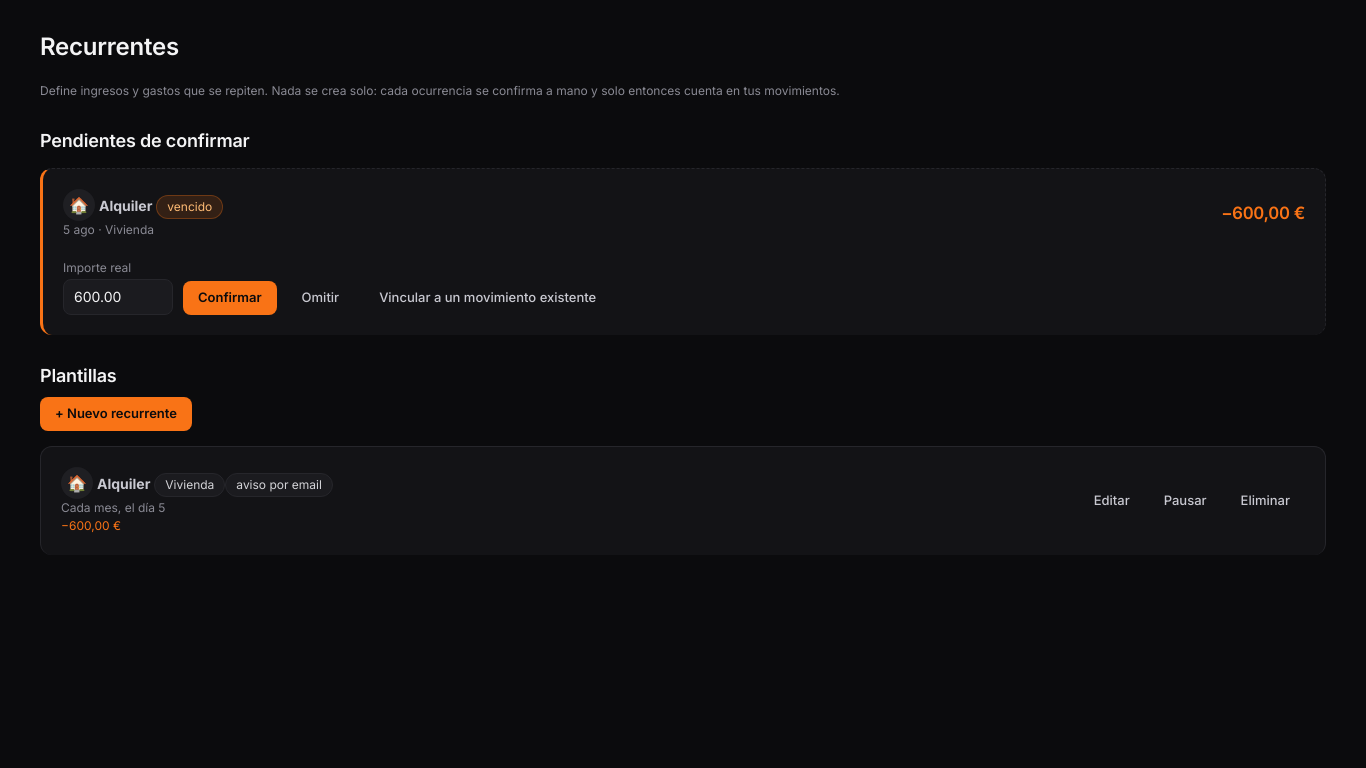
Scenario: RecurringPage › al editar, carga la configuración del aviso y el listado la etiqueta
Expected: the text "aviso por email" is shown, top-left (225, 473), bottom-right (333, 497)
Click the button "Editar" at {"x": 1112, "y": 501}, box top-left (1079, 484), bottom-right (1145, 517)
(page scrolled)
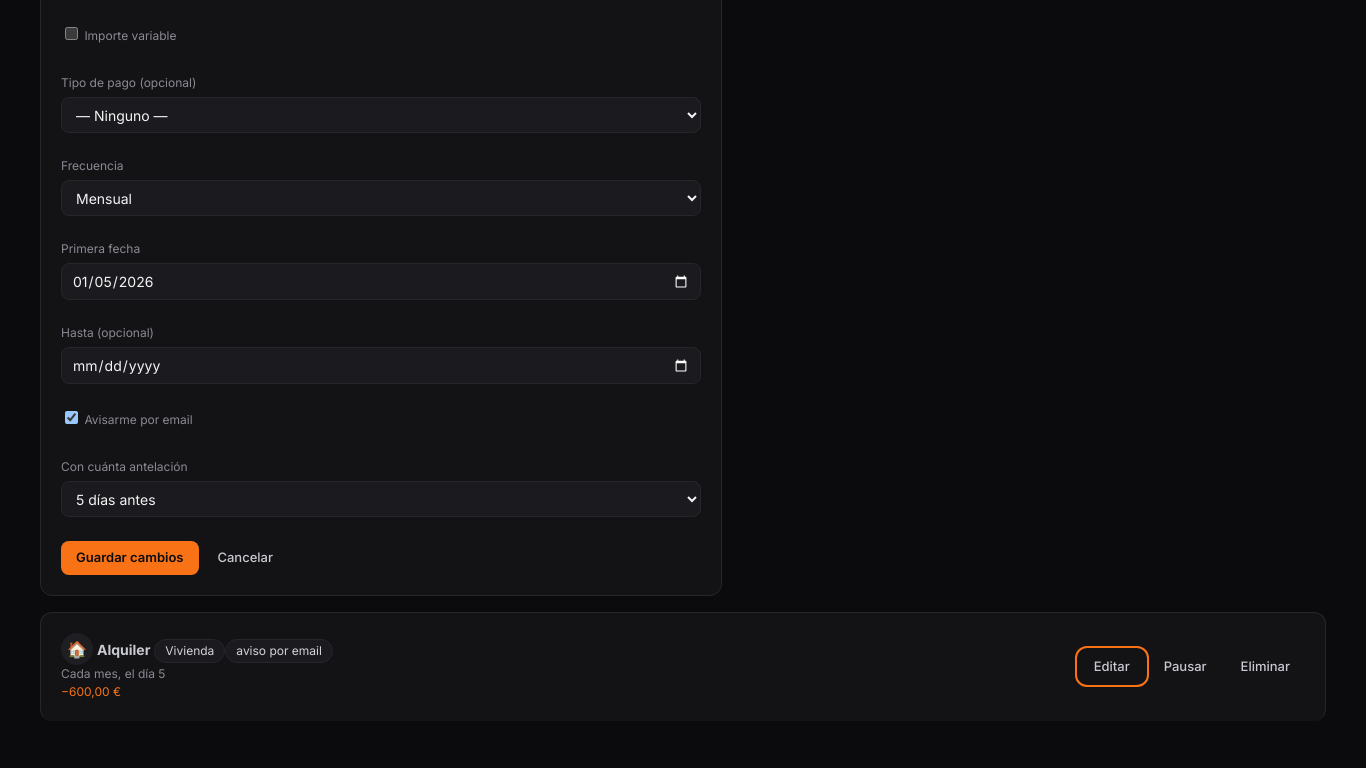
Expected: the checkbox labelled "Avisarme por email" is checked, top-left (65, 411), bottom-right (78, 424)
Expected: the dropdown labelled "Con cuánta antelación" shows "5 días antes", top-left (61, 481), bottom-right (701, 517)
